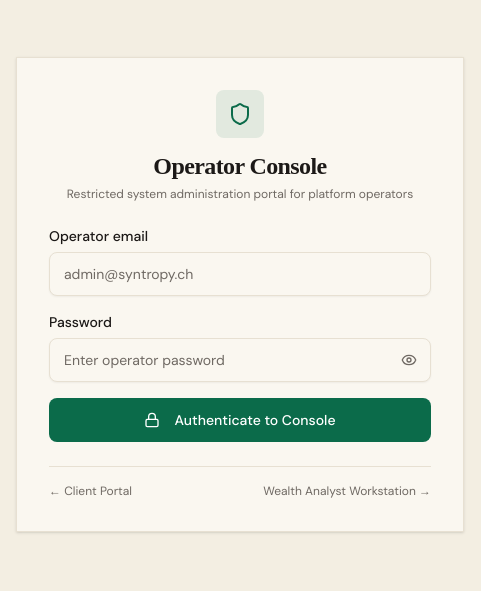
Test: role login mismatch keeps the existing session › admin portal shows the role error without logging out a signed-in USER
The image size is (481, 591).
Type "user@example.com" into the field labelled "Operator email" at (240, 274), box 49,252 -> 431,296
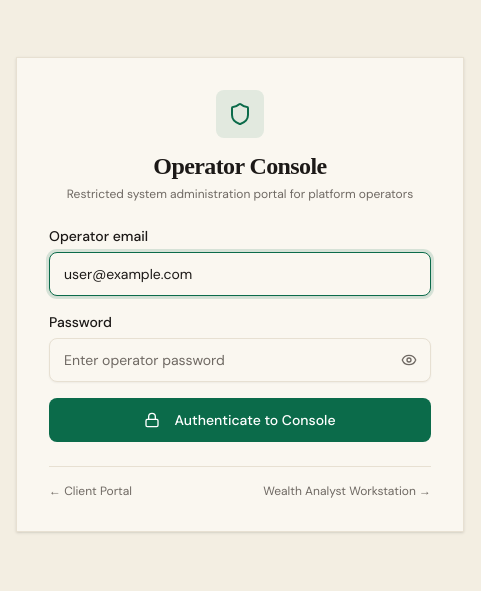
Type "correct-horse-1" into the password field labelled "Password" at (240, 360), box 49,338 -> 431,382
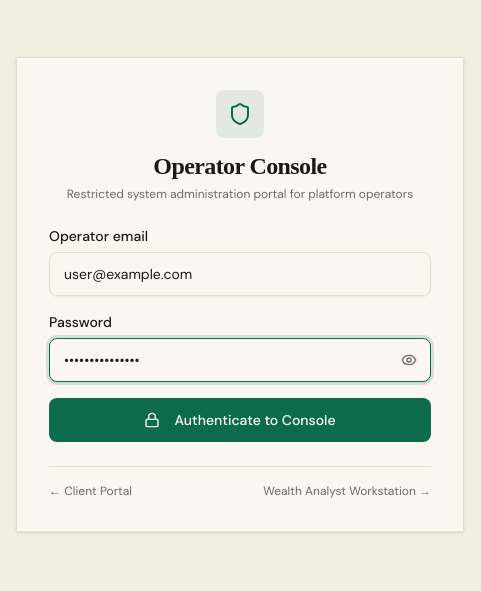
Click the button "Authenticate to Console" at (240, 420), box 49,398 -> 431,442
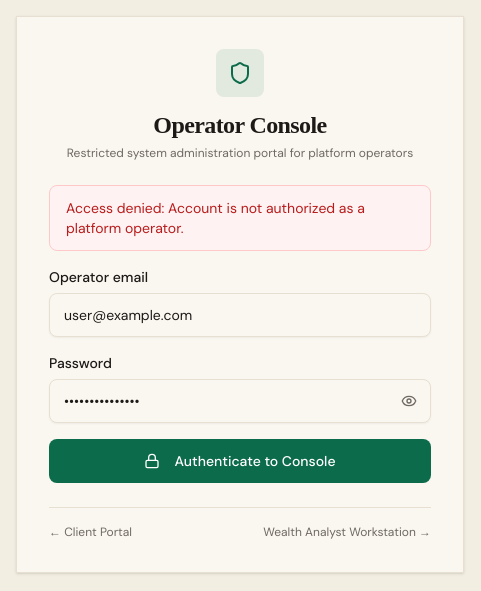
Now the text "Access denied: Account is not authorized as a platform operator." is shown, box 49,184 -> 431,250
